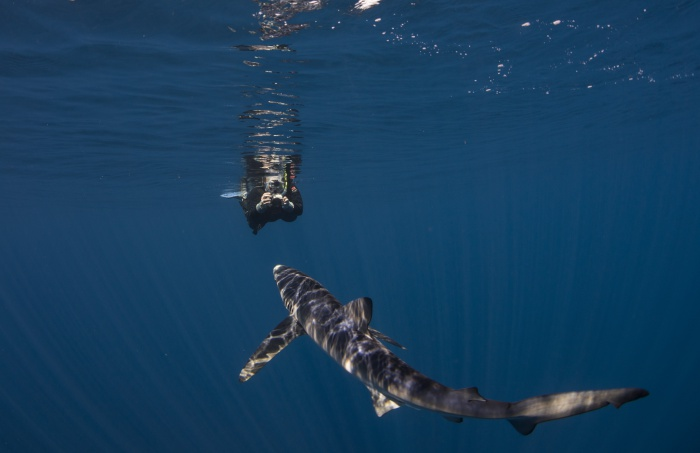Azul: (229, 252, 659, 450)
